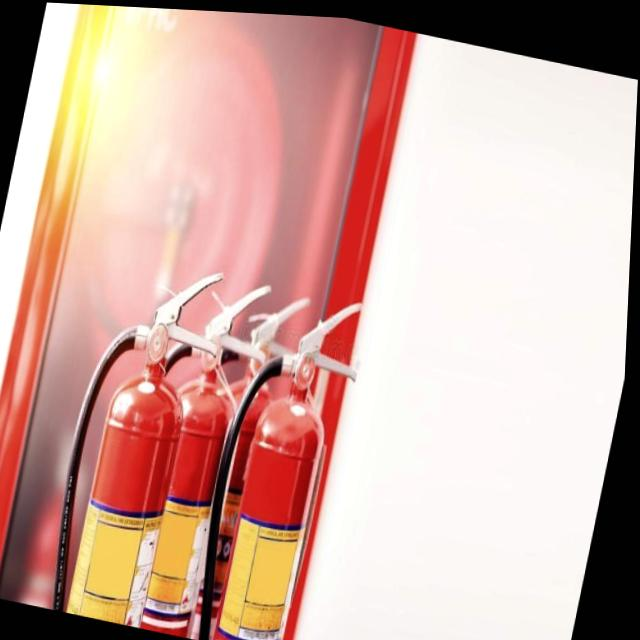FireExtinguisher: (42, 242, 239, 633), (105, 252, 287, 640), (186, 269, 376, 640), (149, 268, 321, 640)
